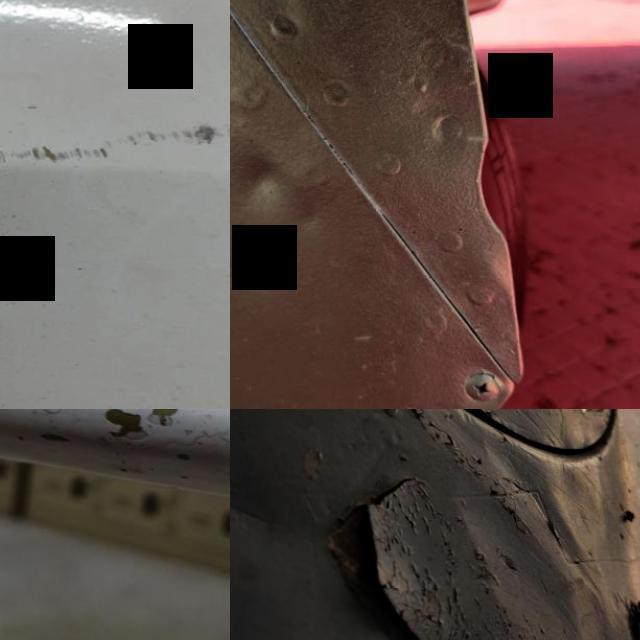Crack: (0, 109, 230, 318), (307, 457, 494, 640), (0, 409, 230, 507)
Dent: (230, 129, 340, 256)
